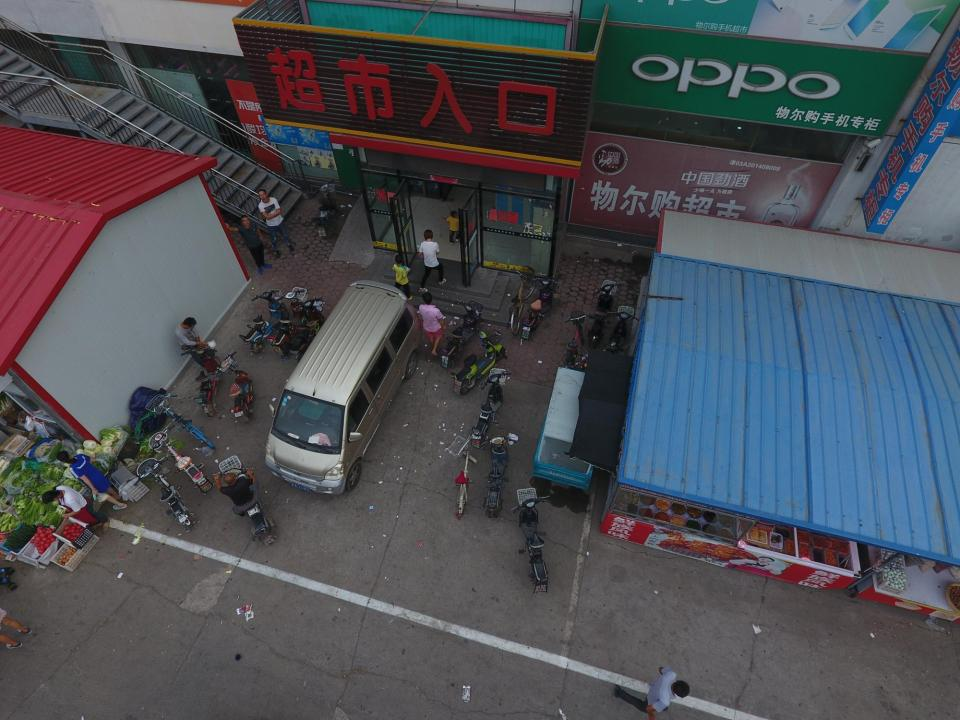van: (264, 279, 423, 497)
